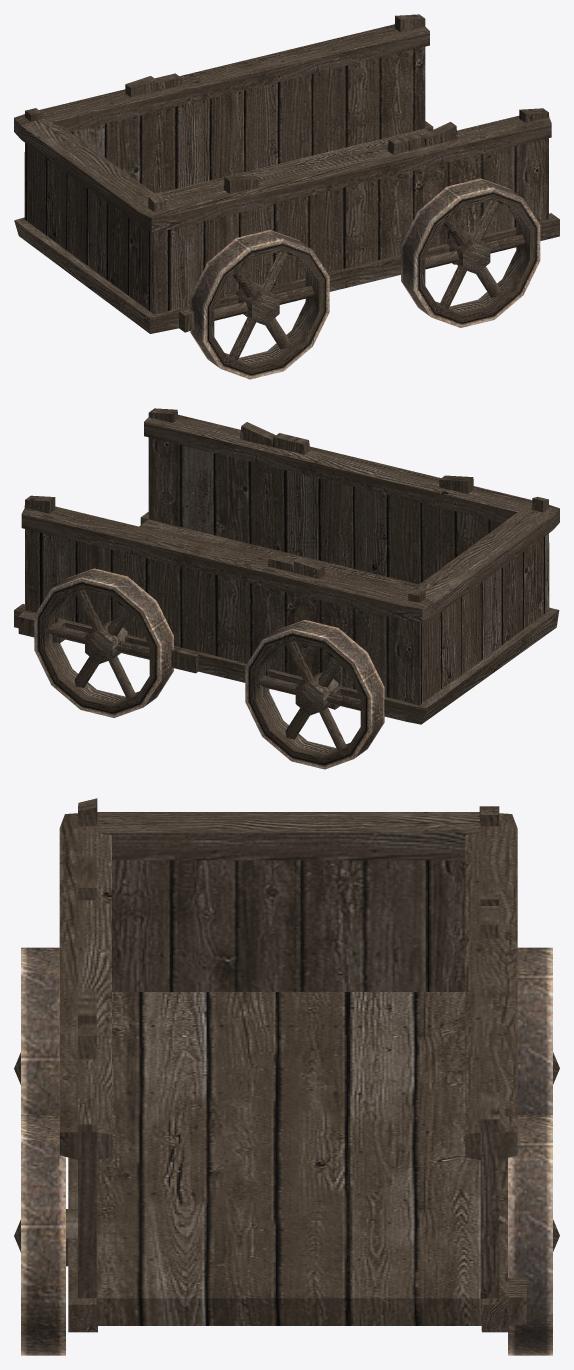
Rendered from woodcart.FBX.
3 renders of one model, top to bottom at view 1: azimuth 30°, elevation 25°; view 2: azimuth 150°, elevation 25°; view 3: azimuth 270°, elevation 25°, orthographic. The views are drawn at different scales.
Visible parts, largest first — view 1: woodcart; view 2: woodcart; view 3: woodcart.
Boxes of the visible parts, x1,y1,x2,y2 form: woodcart: (14, 14, 559, 379); woodcart: (14, 408, 559, 769); woodcart: (14, 798, 559, 1355).
Bounding box in the file's own units: 2.54 × 1.09 × 1.79.
Materials: 1 (1 with a texture image).
